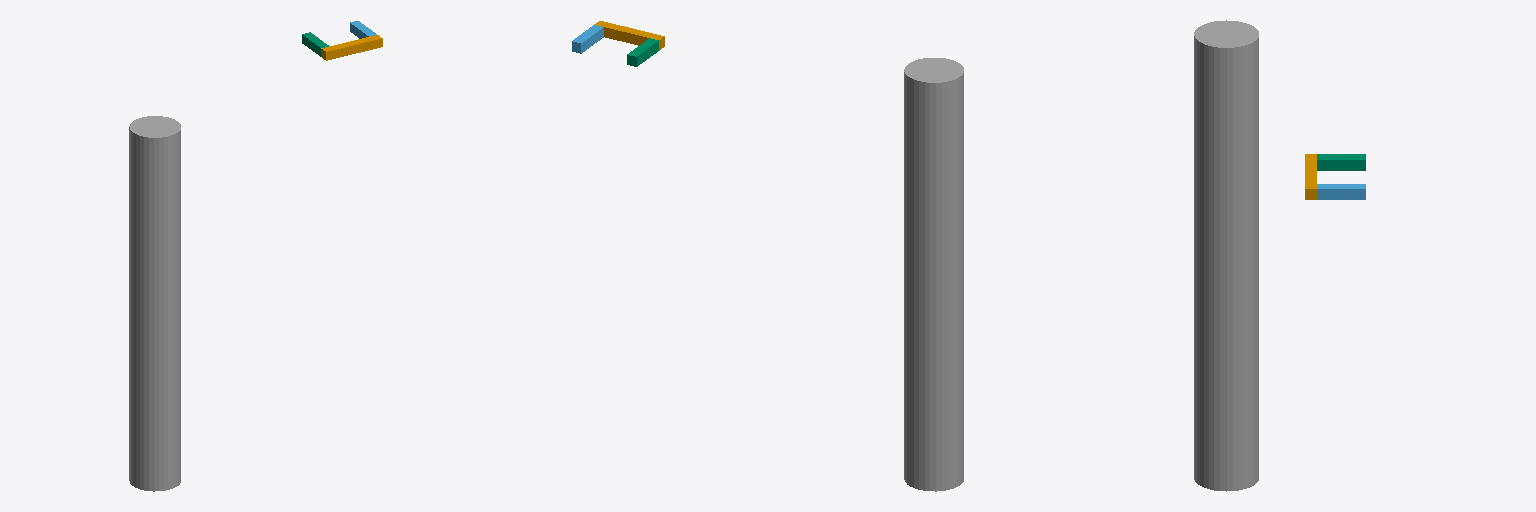
robot.urdf — ur5_gripper_without_camera:
<?xml version="1.0" ?>
<!-- =================================================================================== -->
<!-- |    This document was autogenerated by xacro from ur5_gripper_without_camera.xacro | -->
<!-- |    EDITING THIS FILE BY HAND IS NOT RECOMMENDED                                 | -->
<!-- =================================================================================== -->
<robot name="ur5_gripper_without_camera" xmlns:xacro="http://ros.org/wiki/xacro">
  <!-- end: Properties -->
  <!-- end: Macro Definitions -->
  <link name="gripper_link">
    <visual>
      <geometry>
        <box size="0.03 0.2 0.03"/>
      </geometry>
      <origin rpy="0 0 1.57079632679" xyz="0.0 0.0 0.015"/>
    </visual>
    <collision>
      <geometry>
        <box size="0.03 0.2 0.03"/>
      </geometry>
      <origin rpy="0 0 1.57079632679" xyz="0.0 0.0 0.015"/>
    </collision>
    <inertial>
      <mass value="0.1"/>
      <inertia ixx="0.000340833333333" ixy="0.0" ixz="0.0" iyy="1.5e-05" iyz="0.0" izz="0.000340833333333"/>
    </inertial>
  </link>
  <!-- end:Gripper Link -->
  <link name="r_finger_link">
    <visual>
      <geometry>
        <box size="0.03 0.12 0.03"/>
      </geometry>
      <origin rpy="0 0 0" xyz="0.015 0.0 0.0"/>
    </visual>
    <collision>
      <geometry>
        <box size="0.03 0.12 0.03"/>
      </geometry>
      <origin rpy="0 0 0" xyz="0.015 0.0 0.0"/>
    </collision>
    <inertial>
      <mass value="0.1"/>
      <inertia ixx="0.0001275" ixy="0.0" ixz="0.0" iyy="1.5e-05" iyz="0.0" izz="0.0001275"/>
    </inertial>
  </link>
  <joint name="r_finger_joint" type="prismatic">
    <limit effort="100.0" lower="0" upper="0.07" velocity="5.0"/>
    <dynamics damping="0.1"/>
    <parent link="gripper_link"/>
    <child link="r_finger_link"/>
    <origin rpy="1.57079632679 0 0" xyz="-0.1 0.0 0.09"/>
  </joint>
  <transmission name="r_finger_trans">
    <type>transmission_interface/SimpleTransmission</type>
    <joint name="r_finger_joint">
      <hardwareInterface>hardware_interface/EffortJointInterface</hardwareInterface>
    </joint>
    <actuator name="r_finger_motor">
      <mechanicalReduction>1</mechanicalReduction>
    </actuator>
  </transmission>
  <!-- end: Right Finger -->
  <link name="l_finger_link">
    <visual>
      <geometry>
        <box size="0.03 0.12 0.03"/>
      </geometry>
      <origin rpy="0 0 0" xyz="0.015 0.0 0.0"/>
    </visual>
    <collision>
      <geometry>
        <box size="0.03 0.12 0.03"/>
      </geometry>
      <origin rpy="0 0 0" xyz="0.015 0.0 0.0"/>
    </collision>
    <inertial>
      <mass value="0.1"/>
      <inertia ixx="0.0001275" ixy="0.0" ixz="0.0" iyy="1.5e-05" iyz="0.0" izz="0.0001275"/>
    </inertial>
  </link>
  <joint name="l_finger_joint" type="prismatic">
    <limit effort="100.0" lower="0" upper="0.07" velocity="5.0"/>
    <dynamics damping="0.1"/>
    <parent link="gripper_link"/>
    <child link="l_finger_link"/>
    <origin rpy="1.57079632679 0 3.14159265359" xyz="0.1 0.0 0.09"/>
  </joint>
  <transmission name="l_finger_trans">
    <type>transmission_interface/SimpleTransmission</type>
    <joint name="l_finger_joint">
      <hardwareInterface>hardware_interface/EffortJointInterface</hardwareInterface>
    </joint>
    <actuator name="l_finger_motor">
      <mechanicalReduction>1</mechanicalReduction>
    </actuator>
  </transmission>
  <!-- end: Left Finger -->
  <!-- start: Tool Center Point (TCP) -->
  <link name="tcp_link"/>
  <joint name="tcp_joint" type="fixed">
    <origin rpy="0 -1.57079632679 1.57079632679" xyz="0 0 0.09"/>
    <parent link="gripper_link"/>
    <child link="tcp_link"/>
  </joint>
  <!-- end: Tool Center Point (TCP) -->
  <gazebo>
    <plugin filename="libgazebo_ros_control.so" name="gazebo_ros_control">
      <!--robotNamespace>/</robotNamespace-->
      <!--robotSimType>gazebo_ros_control/DefaultRobotHWSim</robotSimType-->
    </plugin>
    <!--
    <plugin name="gazebo_ros_power_monitor_controller" filename="libgazebo_ros_power_monitor.so">
      <alwaysOn>true</alwaysOn>
      <updateRate>1.0</updateRate>
      <timeout>5</timeout>
      <powerStateTopic>power_state</powerStateTopic>
      <powerStateRate>10.0</powerStateRate>
      <fullChargeCapacity>87.78</fullChargeCapacity>     
      <dischargeRate>-474</dischargeRate>
      <chargeRate>525</chargeRate>
      <dischargeVoltage>15.52</dischargeVoltage>
      <chargeVoltage>16.41</chargeVoltage>
    </plugin>
-->
  </gazebo>
  <gazebo>
    <plugin filename="libgazebo_ros_joint_state_publisher.so" name="joint_state_publisher">
      <jointName>shoulder_pan_joint, shoulder_lift_joint, elbow_joint, wrist_1_joint, wrist_2_joint, wrist_3_joint, r_finger_joint, l_finger_joint</jointName>
      <updateRate>100</updateRate>
    </plugin>
    <!-- <plugin name="gazebo_mimic_plugin" filename="libroboticsgroup_gazebo_mimic_joint_plugin.so"> -->
    <!--   <joint>r_finger_joint</joint> -->
    <!--   <mimicJoint>l_finger_joint</mimicJoint> -->
    <!--   <multiplier>-1</multiplier> -->
    <!-- </plugin> -->
  </gazebo>
  <!-- <gazebo reference="gripper_r_finger"> -->
  <!--   <mu1>0.2</mu1> -->
  <!--   <mu2>0.2</mu2> -->
  <!--  <material>Gazebo/Blue</material> -->
  <!-- </gazebo> -->
  <!-- <gazebo reference="gripper_l_finger"> -->
  <!--   <mu1>0.2</mu1> -->
  <!--   <mu2>0.2</mu2> -->
  <!--   <material>Gazebo/Red</material> -->
  <!-- </gazebo> -->
  <!-- <gazebo> -->
  <!--   <gripper name="grasping"> -->
  <!--       <grasp_check> -->
  <!--           <attach_steps>3</attach_steps> -->
  <!--           <detach_steps>3</detach_steps> -->
  <!--           <min_contact_count>1</min_contact_count> -->
  <!--       </grasp_check> -->
  <!--       <gripper_link>gripper_r_finger</gripper_link> -->
  <!--       <gripper_link>gripper_l_finger</gripper_link> -->
  <!--       <palm_link>gripper_ankle</palm_link> -->
  <!--   </gripper> -->
  <!-- </gazebo> -->
  <!-- measured from model -->
  <!--property name="shoulder_height" value="0.089159" /-->
  <!--property name="shoulder_offset" value="0.13585" /-->
  <!-- shoulder_offset - elbow_offset + wrist_1_length = 0.10915 -->
  <!--property name="upper_arm_length" value="0.42500" /-->
  <!--property name="elbow_offset" value="0.1197" /-->
  <!-- CAD measured -->
  <!--property name="forearm_length" value="0.39225" /-->
  <!--property name="wrist_1_length" value="0.093" /-->
  <!-- CAD measured -->
  <!--property name="wrist_2_length" value="0.09465" /-->
  <!-- In CAD this distance is 0.930, but in the spec it is 0.09465 -->
  <!--property name="wrist_3_length" value="0.0823" /-->
  <!-- manually measured -->
  <!-- end: including -->
  <!-- end: properties -->
  <link name="base_link">
    <visual>
      <geometry>
        <mesh filename="package://ur_description/meshes/ur5/visual/base.dae"/>
      </geometry>
      <material name="LightGrey">
        <color rgba="0.7 0.7 0.7 1.0"/>
      </material>
    </visual>
    <collision>
      <geometry>
        <mesh filename="package://ur_description/meshes/ur5/collision/base.stl"/>
      </geometry>
    </collision>
    <inertial>
      <mass value="4.0"/>
      <origin rpy="0 0 0" xyz="0.0 0.0 0.0"/>
      <inertia ixx="0.00443333156" ixy="0.0" ixz="0.0" iyy="0.00443333156" iyz="0.0" izz="0.0072"/>
    </inertial>
  </link>
  <joint name="shoulder_pan_joint" type="revolute">
    <parent link="base_link"/>
    <child link="shoulder_link"/>
    <origin rpy="0.0 0.0 0.0" xyz="0.0 0.0 0.089159"/>
    <axis xyz="0 0 1"/>
    <limit effort="150.0" lower="-3.14159265" upper="3.14159265" velocity="3.15"/>
    <dynamics damping="0.0" friction="0.0"/>
  </joint>
  <link name="shoulder_link">
    <visual>
      <geometry>
        <mesh filename="package://ur_description/meshes/ur5/visual/shoulder.dae"/>
      </geometry>
      <material name="LightGrey">
        <color rgba="0.7 0.7 0.7 1.0"/>
      </material>
    </visual>
    <collision>
      <geometry>
        <mesh filename="package://ur_description/meshes/ur5/collision/shoulder.stl"/>
      </geometry>
    </collision>
    <inertial>
      <mass value="3.7"/>
      <origin rpy="0 0 0" xyz="0.0 0.0 0.0"/>
      <inertia ixx="0.010267495893" ixy="0.0" ixz="0.0" iyy="0.010267495893" iyz="0.0" izz="0.00666"/>
    </inertial>
  </link>
  <joint name="shoulder_lift_joint" type="revolute">
    <parent link="shoulder_link"/>
    <child link="upper_arm_link"/>
    <origin rpy="0.0 1.570796325 0.0" xyz="0.0 0.13585 0.0"/>
    <axis xyz="0 1 0"/>
    <limit effort="150.0" lower="-3.14159265" upper="3.14159265" velocity="3.15"/>
    <dynamics damping="0.0" friction="0.0"/>
  </joint>
  <link name="upper_arm_link">
    <visual>
      <geometry>
        <mesh filename="package://ur_description/meshes/ur5/visual/upperarm.dae"/>
      </geometry>
      <material name="LightGrey">
        <color rgba="0.7 0.7 0.7 1.0"/>
      </material>
    </visual>
    <collision>
      <geometry>
        <mesh filename="package://ur_description/meshes/ur5/collision/upperarm.stl"/>
      </geometry>
    </collision>
    <inertial>
      <mass value="8.393"/>
      <origin rpy="0 0 0" xyz="0.0 0.0 0.28"/>
      <inertia ixx="0.22689067591" ixy="0.0" ixz="0.0" iyy="0.22689067591" iyz="0.0" izz="0.0151074"/>
    </inertial>
  </link>
  <joint name="elbow_joint" type="revolute">
    <parent link="upper_arm_link"/>
    <child link="forearm_link"/>
    <origin rpy="0.0 0.0 0.0" xyz="0.0 -0.1197 0.425"/>
    <axis xyz="0 1 0"/>
    <limit effort="150.0" lower="-3.14159265" upper="3.14159265" velocity="3.15"/>
    <dynamics damping="0.0" friction="0.0"/>
  </joint>
  <link name="forearm_link">
    <visual>
      <geometry>
        <mesh filename="package://ur_description/meshes/ur5/visual/forearm.dae"/>
      </geometry>
      <material name="LightGrey">
        <color rgba="0.7 0.7 0.7 1.0"/>
      </material>
    </visual>
    <collision>
      <geometry>
        <mesh filename="package://ur_description/meshes/ur5/collision/forearm.stl"/>
      </geometry>
    </collision>
    <inertial>
      <mass value="2.275"/>
      <origin rpy="0 0 0" xyz="0.0 0.0 0.25"/>
      <inertia ixx="0.049443313556" ixy="0.0" ixz="0.0" iyy="0.049443313556" iyz="0.0" izz="0.004095"/>
    </inertial>
  </link>
  <joint name="wrist_1_joint" type="revolute">
    <parent link="forearm_link"/>
    <child link="wrist_1_link"/>
    <origin rpy="0.0 1.570796325 0.0" xyz="0.0 0.0 0.39225"/>
    <axis xyz="0 1 0"/>
    <limit effort="28.0" lower="-3.14159265" upper="3.14159265" velocity="3.2"/>
    <dynamics damping="0.0" friction="0.0"/>
  </joint>
  <link name="wrist_1_link">
    <visual>
      <geometry>
        <mesh filename="package://ur_description/meshes/ur5/visual/wrist1.dae"/>
      </geometry>
      <material name="LightGrey">
        <color rgba="0.7 0.7 0.7 1.0"/>
      </material>
    </visual>
    <collision>
      <geometry>
        <mesh filename="package://ur_description/meshes/ur5/collision/wrist1.stl"/>
      </geometry>
    </collision>
    <inertial>
      <mass value="1.219"/>
      <origin rpy="0 0 0" xyz="0.0 0.0 0.0"/>
      <inertia ixx="0.111172755531" ixy="0.0" ixz="0.0" iyy="0.111172755531" iyz="0.0" izz="0.21942"/>
    </inertial>
  </link>
  <joint name="wrist_2_joint" type="revolute">
    <parent link="wrist_1_link"/>
    <child link="wrist_2_link"/>
    <origin rpy="0.0 0.0 0.0" xyz="0.0 0.093 0.0"/>
    <axis xyz="0 0 1"/>
    <limit effort="28.0" lower="-3.14159265" upper="3.14159265" velocity="3.2"/>
    <dynamics damping="0.0" friction="0.0"/>
  </joint>
  <link name="wrist_2_link">
    <visual>
      <geometry>
        <mesh filename="package://ur_description/meshes/ur5/visual/wrist2.dae"/>
      </geometry>
      <material name="LightGrey">
        <color rgba="0.7 0.7 0.7 1.0"/>
      </material>
    </visual>
    <collision>
      <geometry>
        <mesh filename="package://ur_description/meshes/ur5/collision/wrist2.stl"/>
      </geometry>
    </collision>
    <inertial>
      <mass value="1.219"/>
      <origin rpy="0 0 0" xyz="0.0 0.0 0.0"/>
      <inertia ixx="0.111172755531" ixy="0.0" ixz="0.0" iyy="0.111172755531" iyz="0.0" izz="0.21942"/>
    </inertial>
  </link>
  <joint name="wrist_3_joint" type="revolute">
    <parent link="wrist_2_link"/>
    <child link="wrist_3_link"/>
    <origin rpy="0.0 0.0 0.0" xyz="0.0 0.0 0.09465"/>
    <axis xyz="0 1 0"/>
    <limit effort="28.0" lower="-3.14159265" upper="3.14159265" velocity="3.2"/>
    <dynamics damping="0.0" friction="0.0"/>
  </joint>
  <link name="wrist_3_link">
    <visual>
      <geometry>
        <mesh filename="package://ur_description/meshes/ur5/visual/wrist3.dae"/>
      </geometry>
      <material name="LightGrey">
        <color rgba="0.7 0.7 0.7 1.0"/>
      </material>
    </visual>
    <collision>
      <geometry>
        <mesh filename="package://ur_description/meshes/ur5/collision/wrist3.stl"/>
      </geometry>
    </collision>
    <inertial>
      <mass value="0.1879"/>
      <origin rpy="0 0 0" xyz="0.0 0.0 0.0"/>
      <inertia ixx="0.0171364731454" ixy="0.0" ixz="0.0" iyy="0.0171364731454" iyz="0.0" izz="0.033822"/>
    </inertial>
  </link>
  <joint name="ee_fixed_joint" type="fixed">
    <parent link="wrist_3_link"/>
    <child link="ee_link"/>
    <origin rpy="0.0 0.0 1.570796325" xyz="0.0 0.0823 0.0"/>
  </joint>
  <link name="ee_link">
    <collision>
      <geometry>
        <box size="0.01 0.01 0.01"/>
      </geometry>
      <origin rpy="0 0 0" xyz="-0.01 0 0"/>
    </collision>
  </link>
  <transmission name="shoulder_pan_trans">
    <type>transmission_interface/SimpleTransmission</type>
    <joint name="shoulder_pan_joint">
      <hardwareInterface>hardware_interface/PositionJointInterface</hardwareInterface>
    </joint>
    <actuator name="shoulder_pan_motor">
      <mechanicalReduction>1</mechanicalReduction>
    </actuator>
  </transmission>
  <transmission name="shoulder_lift_trans">
    <type>transmission_interface/SimpleTransmission</type>
    <joint name="shoulder_lift_joint">
      <hardwareInterface>hardware_interface/PositionJointInterface</hardwareInterface>
    </joint>
    <actuator name="shoulder_lift_motor">
      <mechanicalReduction>1</mechanicalReduction>
    </actuator>
  </transmission>
  <transmission name="elbow_trans">
    <type>transmission_interface/SimpleTransmission</type>
    <joint name="elbow_joint">
      <hardwareInterface>hardware_interface/PositionJointInterface</hardwareInterface>
    </joint>
    <actuator name="elbow_motor">
      <mechanicalReduction>1</mechanicalReduction>
    </actuator>
  </transmission>
  <transmission name="wrist_1_trans">
    <type>transmission_interface/SimpleTransmission</type>
    <joint name="wrist_1_joint">
      <hardwareInterface>hardware_interface/PositionJointInterface</hardwareInterface>
    </joint>
    <actuator name="wrist_1_motor">
      <mechanicalReduction>1</mechanicalReduction>
    </actuator>
  </transmission>
  <transmission name="wrist_2_trans">
    <type>transmission_interface/SimpleTransmission</type>
    <joint name="wrist_2_joint">
      <hardwareInterface>hardware_interface/PositionJointInterface</hardwareInterface>
    </joint>
    <actuator name="wrist_2_motor">
      <mechanicalReduction>1</mechanicalReduction>
    </actuator>
  </transmission>
  <transmission name="wrist_3_trans">
    <type>transmission_interface/SimpleTransmission</type>
    <joint name="wrist_3_joint">
      <hardwareInterface>hardware_interface/PositionJointInterface</hardwareInterface>
    </joint>
    <actuator name="wrist_3_motor">
      <mechanicalReduction>1</mechanicalReduction>
    </actuator>
  </transmission>
  <!-- nothing to do here at the moment -->
  <!-- ROS base_link to UR 'Base' Coordinates transform -->
  <link name="base"/>
  <joint name="base_link-base_fixed_joint" type="fixed">
    <!-- NOTE: this rotation is only needed as long as base_link itself is
                 not corrected wrt the real robot (ie: rotated over 180
                 degrees)
      -->
    <origin rpy="0 0 -3.14159265" xyz="0 0 0"/>
    <parent link="base_link"/>
    <child link="base"/>
  </joint>
  <!-- Frame coincident with all-zeros TCP on UR controller -->
  <link name="tool0"/>
  <joint name="wrist_3_link-tool0_fixed_joint" type="fixed">
    <origin rpy="-1.570796325 0 0" xyz="0 0.0823 0"/>
    <parent link="wrist_3_link"/>
    <child link="tool0"/>
  </joint>
  <!-- gripper instance-->
  <!-- RGB-D camera instance -->
  <!-- <xacro:xtion_pro_live name="rgbd_camera" parent="base"> -->
  <!--   <origin xyz="0.1 0 2" rpy="0 ${75.0 * deg_to_rad} ${-90.0 * deg_to_rad}"/> -->
  <!--   <origin xyz="0 0 0" rpy="${-90.0 * deg_to_rad} 0 ${-90.0 * deg_to_rad}"/> -->
  <!-- </xacro:xtion_pro_live> -->
  <!-- end: compentens instantiating -->
  <!-- end: xacro cylinder inertial -->
  <!-- end: xacro cylinder geometry -->
  <!-- start: world link/joint -->
  <link name="world"/>
  <joint name="world_to_stand" type="fixed">
    <parent link="world"/>
    <child link="stand_link"/>
    <origin rpy="0.0 0.0 0.0" xyz="0.0 0.0 0.6"/>
  </joint>
  <!-- end: world link -->
  <!-- start: base link/joint -->
  <link name="stand_link">
    <visual>
      <geometry>
        <cylinder length="1.2" radius="0.08"/>
      </geometry>
    </visual>
    <collision>
      <geometry>
        <cylinder length="1.2" radius="0.08"/>
      </geometry>
    </collision>
    <inertial>
      <mass value="20.0"/>
      <origin rpy="0 0 0" xyz="0.0 0.0 0.0"/>
      <inertia ixx="2.4319990272" ixy="0.0" ixz="0.0" iyy="2.4319990272" iyz="0.0" izz="0.064"/>
    </inertial>
  </link>
  <joint name="stand_to_robot" type="fixed">
    <parent link="stand_link"/>
    <child link="base_link"/>
    <origin rpy="0.0 0.0 0.0" xyz="0.0 0.0 0.6"/>
  </joint>
  <!-- end: base link -->
  <!-- start: arm-gripper joint -->
  <joint name="gripper_joint" type="fixed">
    <parent link="ee_link"/>
    <child link="gripper_link"/>
    <origin rpy="-1.57 0 -1.57" xyz="0 0 0"/>
  </joint>
  <!-- end: arm-gripper joint -->
</robot>

--- What the picture shows (computed from the rendered views, not written in the file) ---
The picture shows the robot from 3 angles, left to right: view 1: azimuth 30°, elevation 25°; view 2: azimuth 150°, elevation 25°; view 3: azimuth 270°, elevation 25°; orthographic projection.
Model ur5_gripper_without_camera with 16 links and 15 joints (6 revolute, 2 prismatic, 7 fixed), rooted at world, posed all joints at 0.
Links seen in each view (by area): view 1: stand_link, gripper_link; view 2: stand_link, gripper_link, r_finger_link, l_finger_link; view 3: stand_link, l_finger_link, r_finger_link, gripper_link.
Boxes of the visible links, left/top/right/bottom form: stand_link: left=129, top=116, right=180, bottom=491; gripper_link: left=321, top=35, right=382, bottom=60; stand_link: left=904, top=58, right=963, bottom=491; gripper_link: left=594, top=21, right=664, bottom=50; r_finger_link: left=572, top=25, right=603, bottom=53; l_finger_link: left=627, top=38, right=658, bottom=66; stand_link: left=1194, top=20, right=1258, bottom=491; l_finger_link: left=1317, top=154, right=1365, bottom=170; r_finger_link: left=1317, top=184, right=1365, bottom=199; gripper_link: left=1305, top=154, right=1316, bottom=199.
Size in the robot's own frame: 0.9974 by 0.4215 by 1.21 metres.
0 mesh visuals loaded from 7 distinct referenced files (none loaded); not drawn: 7 (reference not matched to a file when rendering).